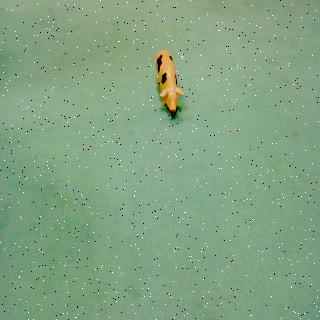pig: (148, 44, 186, 119)
